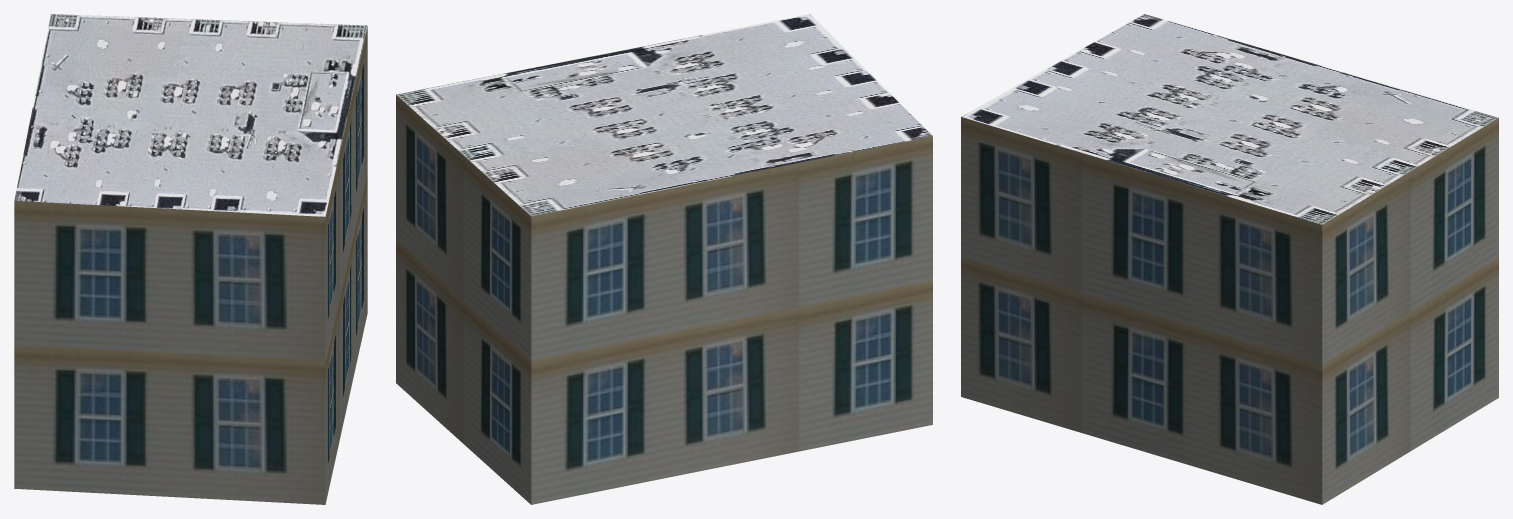
The model's file is ResTex__1864.fbx.
The picture shows the model from 3 angles, left to right: view 1: azimuth 30°, elevation 25°; view 2: azimuth 150°, elevation 25°; view 3: azimuth 270°, elevation 25°; orthographic projection. The views are drawn at different scales.
Parts seen in each view (by area): view 1: CityEngineMaterial_7_m, CityEngineMaterial_4_m; view 2: CityEngineMaterial_7_m, CityEngineMaterial_4_m; view 3: CityEngineMaterial_7_m, CityEngineMaterial_4_m.
Boxes of the visible parts, x1,y1,x2,y2 form: CityEngineMaterial_7_m: (14, 26, 367, 504); CityEngineMaterial_4_m: (14, 14, 367, 216); CityEngineMaterial_7_m: (396, 95, 932, 504); CityEngineMaterial_4_m: (396, 14, 932, 216); CityEngineMaterial_7_m: (961, 117, 1498, 504); CityEngineMaterial_4_m: (961, 14, 1498, 224).
Bounding box in the file's own units: 9.69 × 6 × 10.44.
2 materials, 2 textured.
